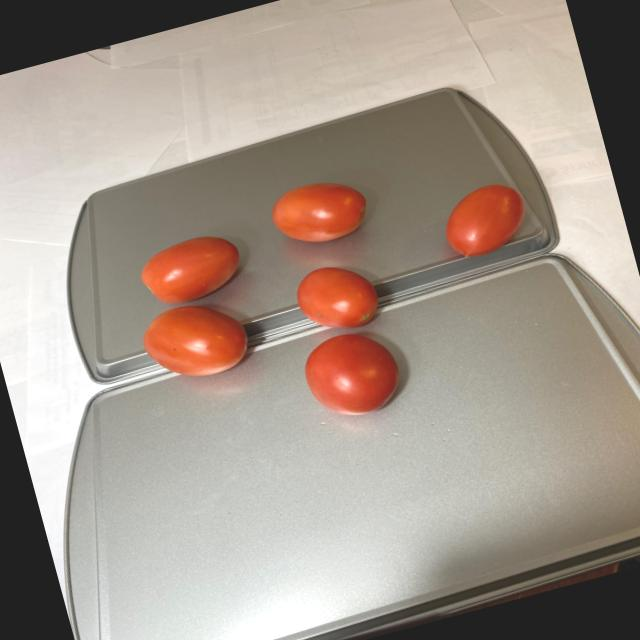tomato: (116, 129, 569, 466)
